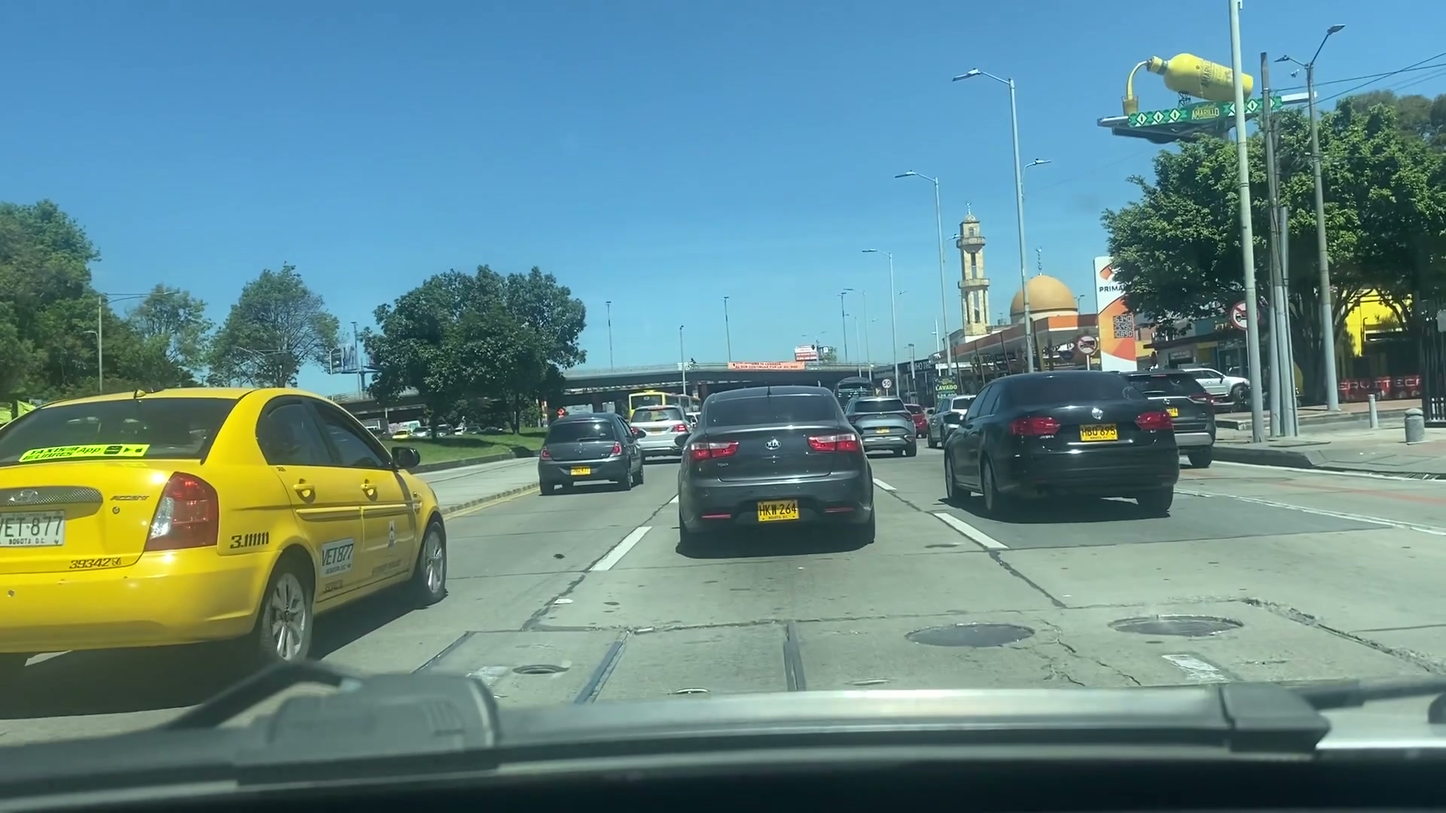car: (0, 385, 450, 664), (942, 378, 1183, 513), (678, 385, 875, 546), (1114, 372, 1216, 467), (535, 412, 643, 489), (841, 396, 920, 458), (623, 404, 692, 458), (924, 389, 974, 446)
